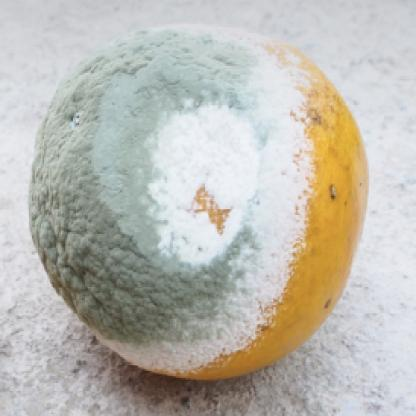rotten: (29, 21, 368, 379)
